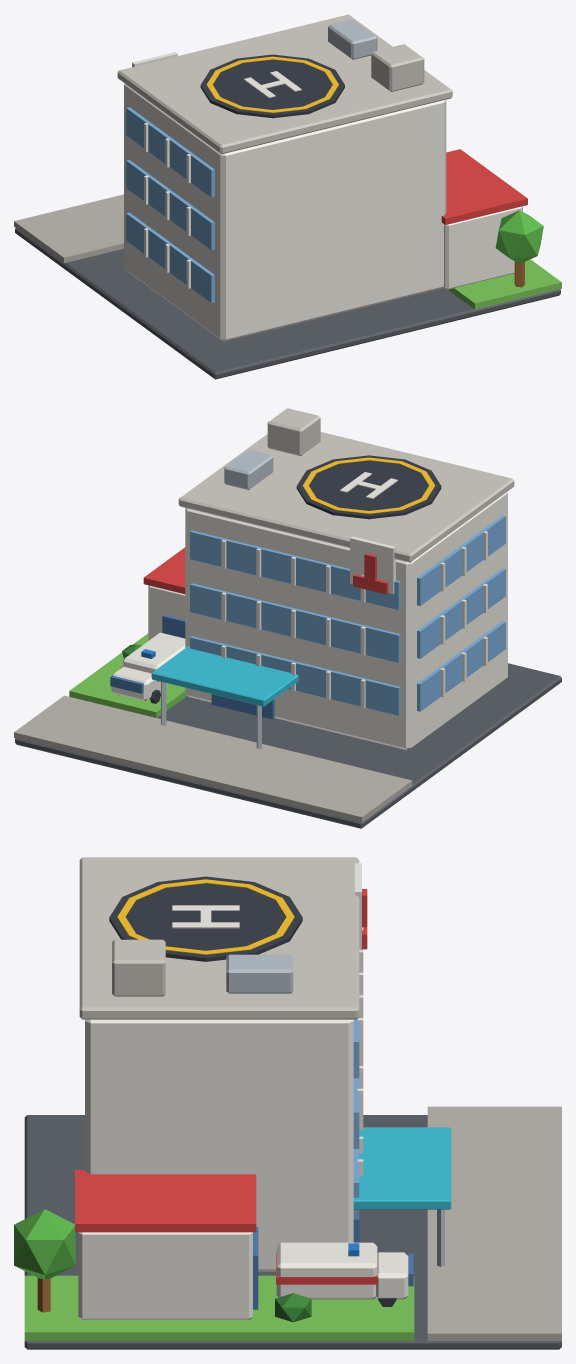
The model's file is hospital.glb.
The picture shows the model from 3 angles, top to bottom: view 1: azimuth 30°, elevation 25°; view 2: azimuth 150°, elevation 25°; view 3: azimuth 270°, elevation 25°; orthographic projection. The views are drawn at different scales.
Parts seen in each view (by area): view 1: corpo; view 2: corpo; view 3: corpo.
Boxes of the visible parts, x1=… form: corpo: x1=14, y1=14, x2=561, y2=379; corpo: x1=14, y1=408, x2=561, y2=828; corpo: x1=14, y1=857, x2=561, y2=1349.
Bounding box in the file's own units: 4 × 2.64 × 4.08.
